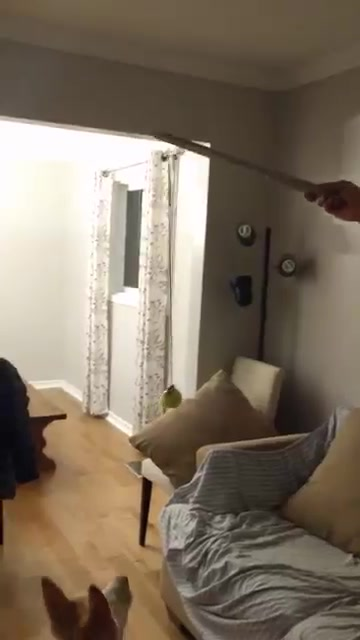tennis_ball: (160, 386, 182, 410)
